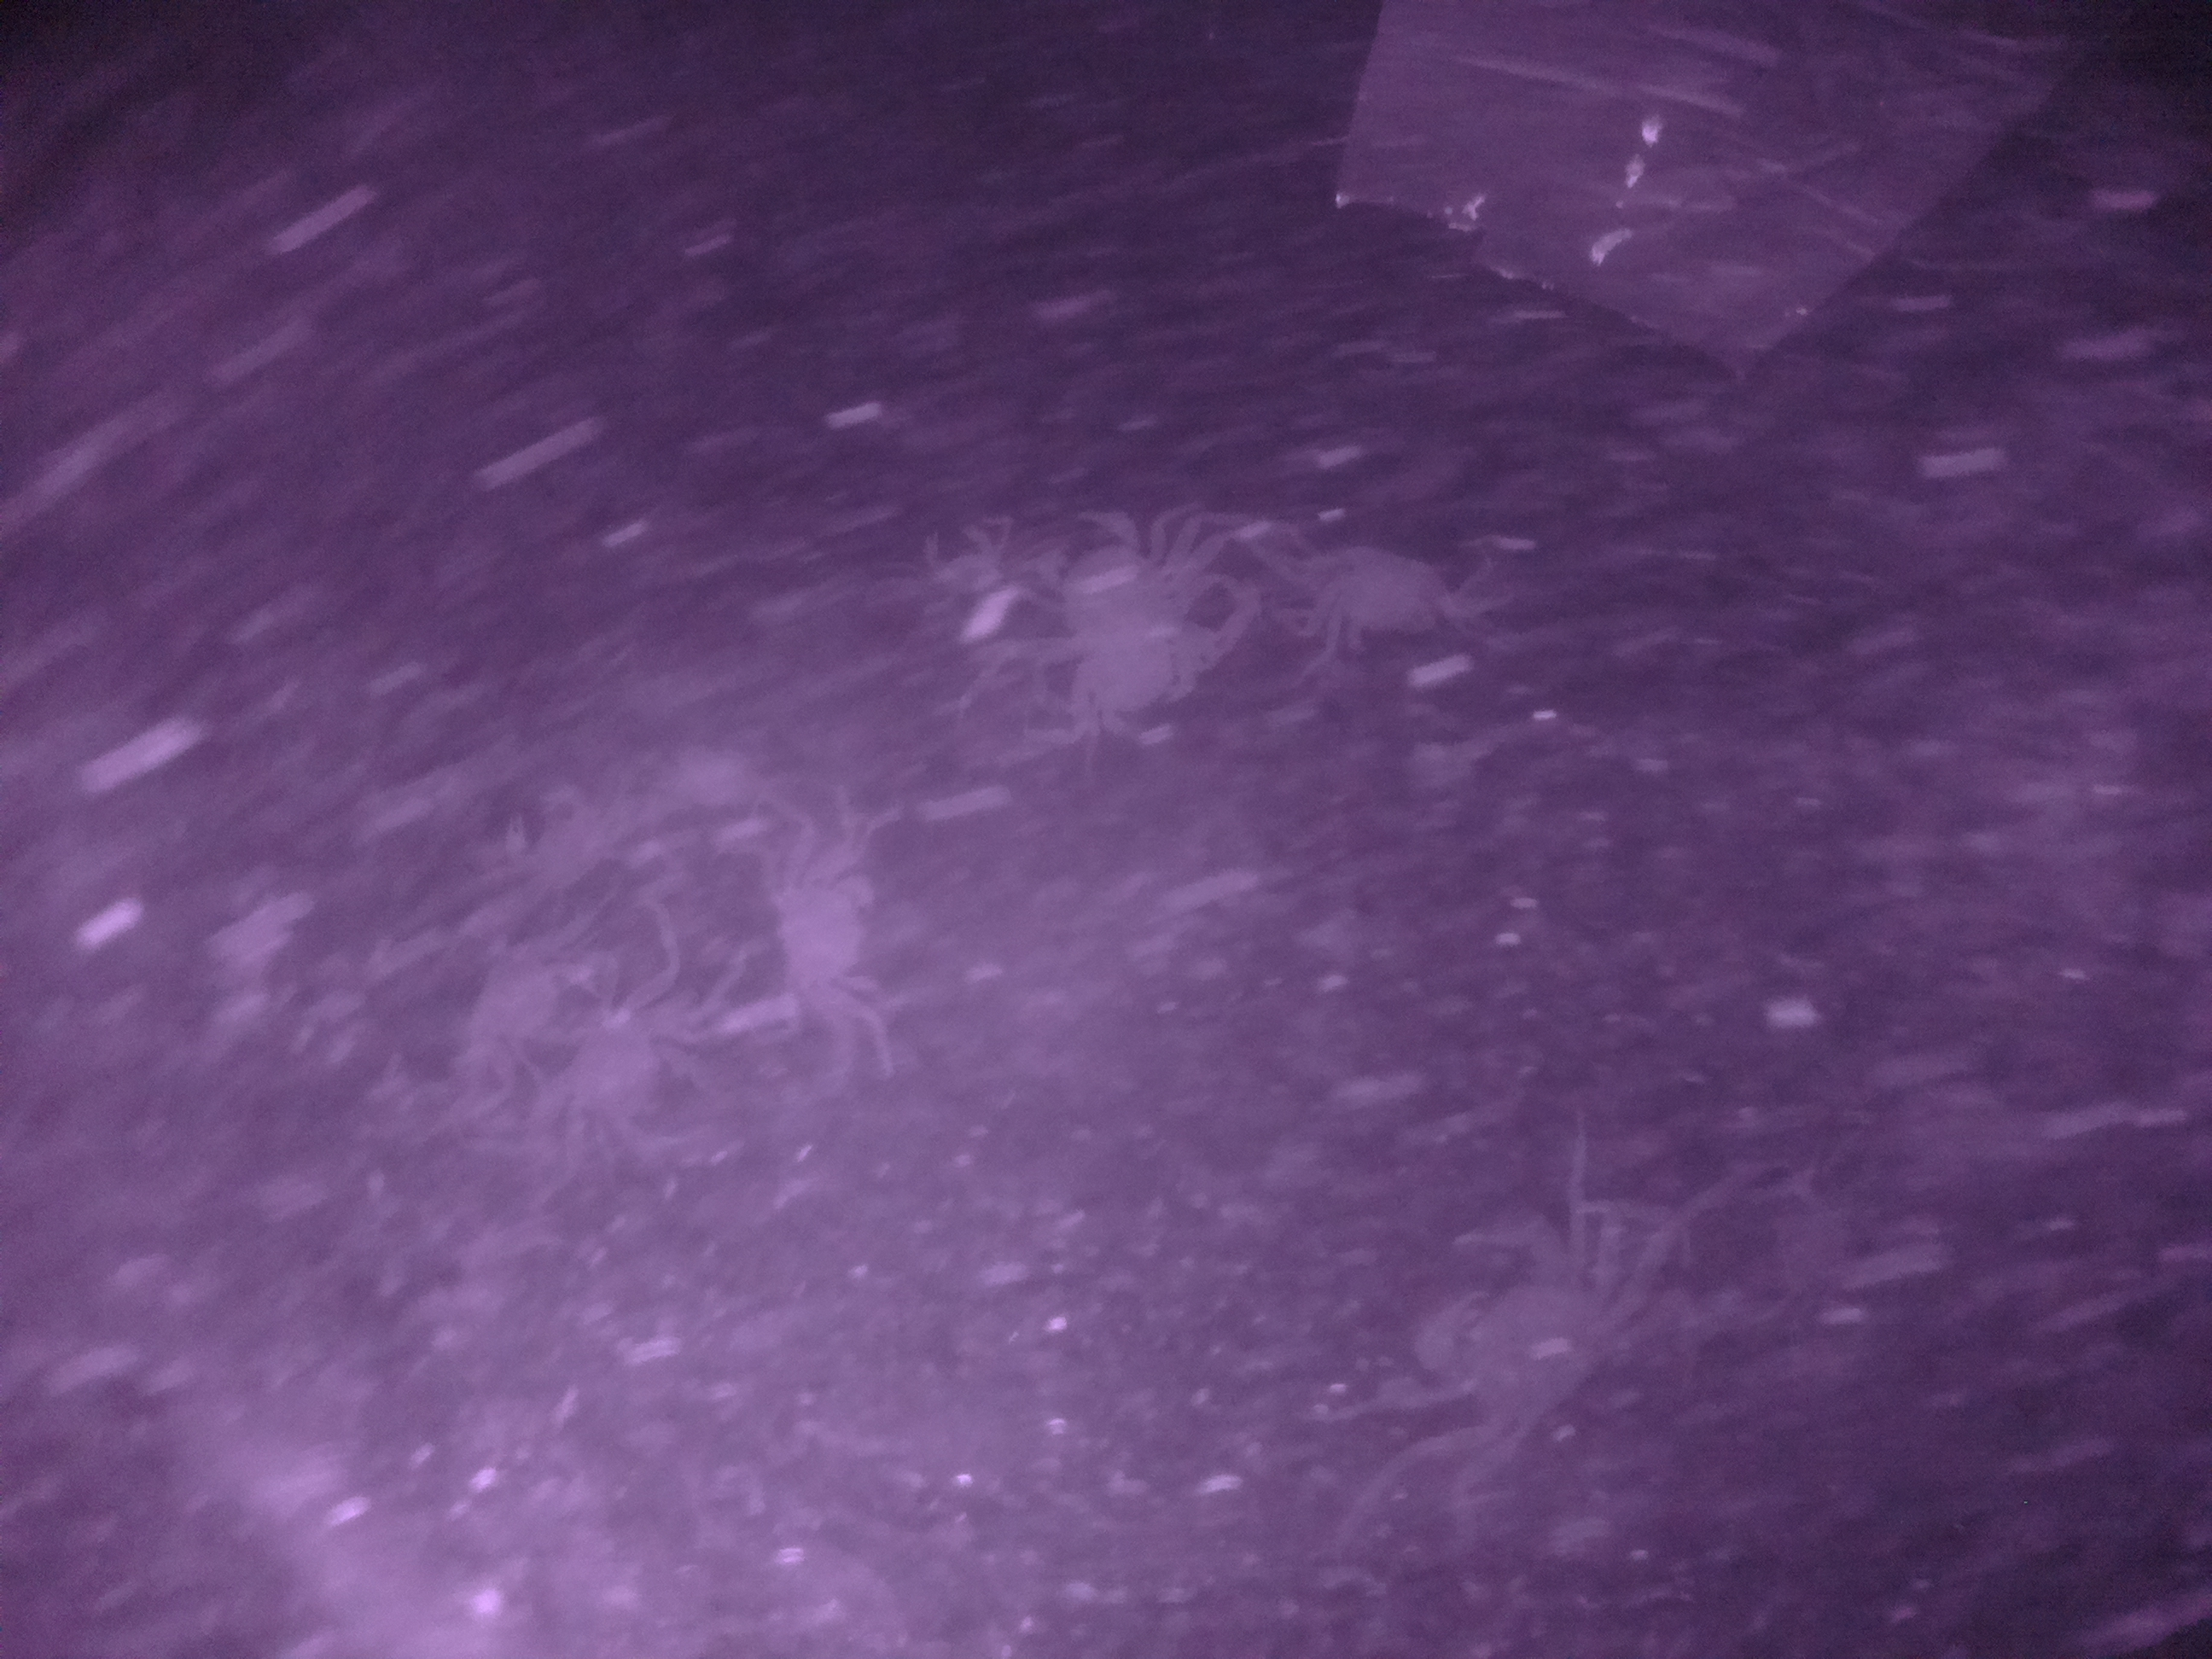Crab: (1402, 1190, 1639, 1502), (735, 852, 899, 1047)
